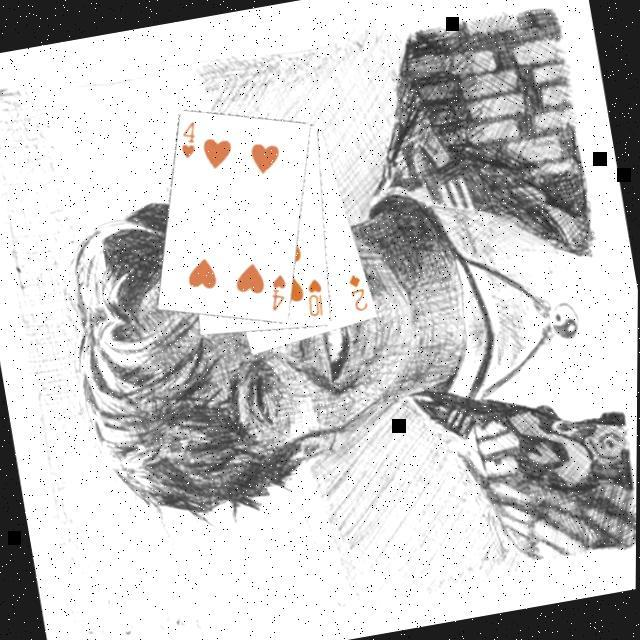10H: (300, 275, 329, 322)
2D: (344, 271, 371, 316)
4H: (172, 118, 204, 164), (262, 270, 294, 315)
